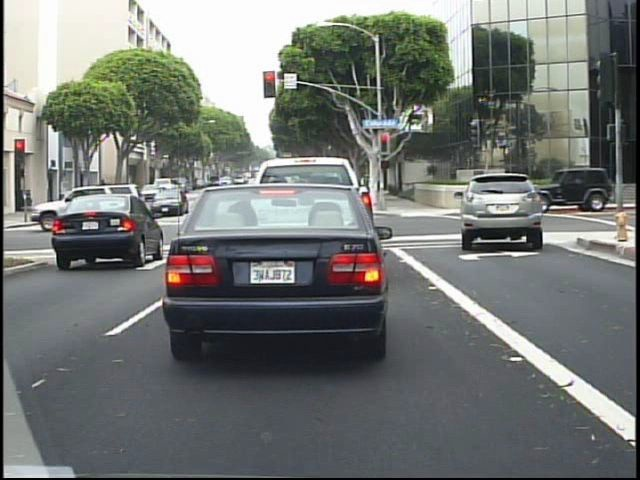person: (95, 176, 111, 206)
